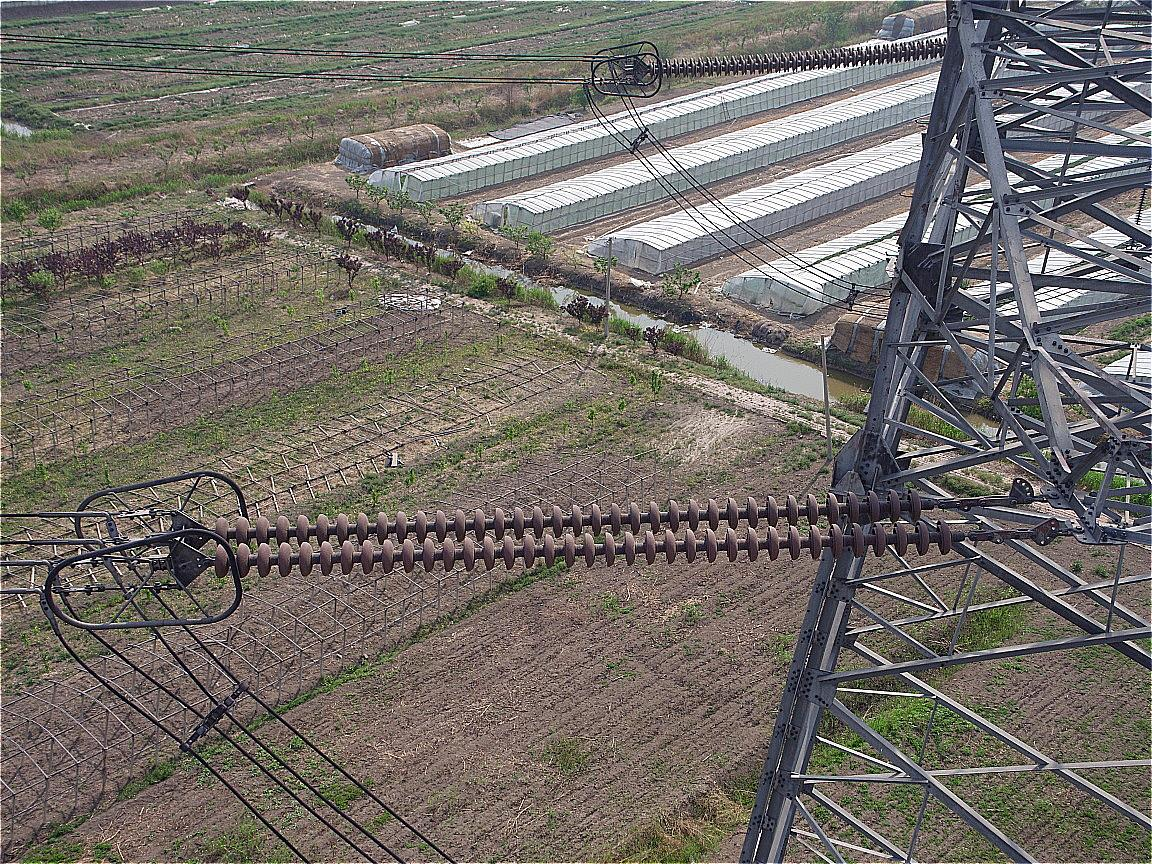insultor1: (212, 490, 955, 578)
insultor2: (647, 35, 951, 77)
